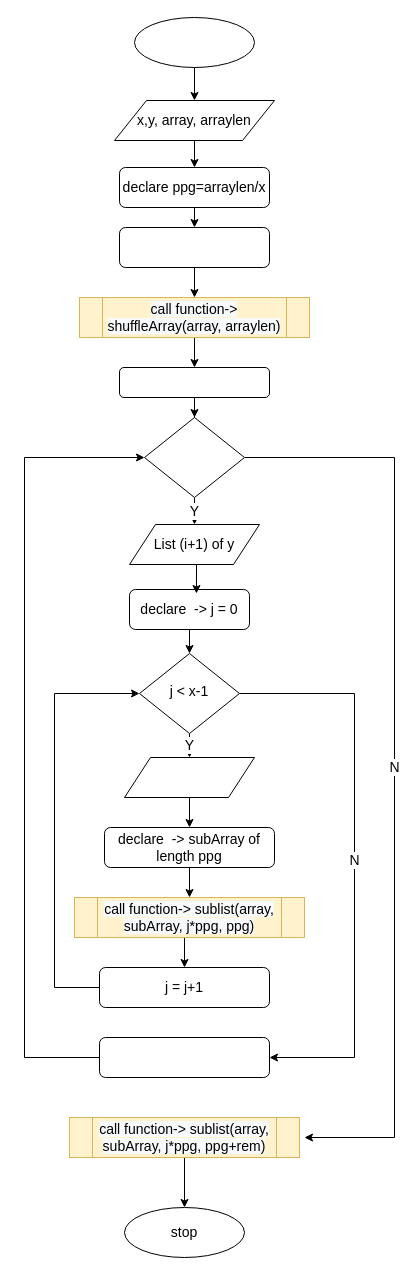
The diagram is 420 pixels wide and 1275 high, and some of its shapes have lost their labels. Each missing label, with the box of its shape:
declare -> i=0: (118, 366, 270, 398)
declare rem=arraylen%x: (118, 226, 270, 268)
Group (j+1) of x: (124, 756, 254, 798)
i = i+1: (98, 1036, 270, 1078)
i<y: (144, 416, 244, 498)
start xlg(): (134, 16, 254, 68)
